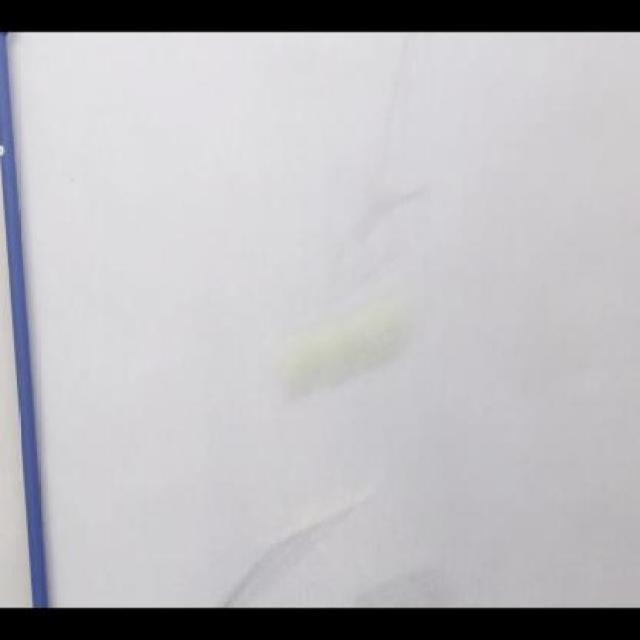baseball: (275, 330, 411, 358)
